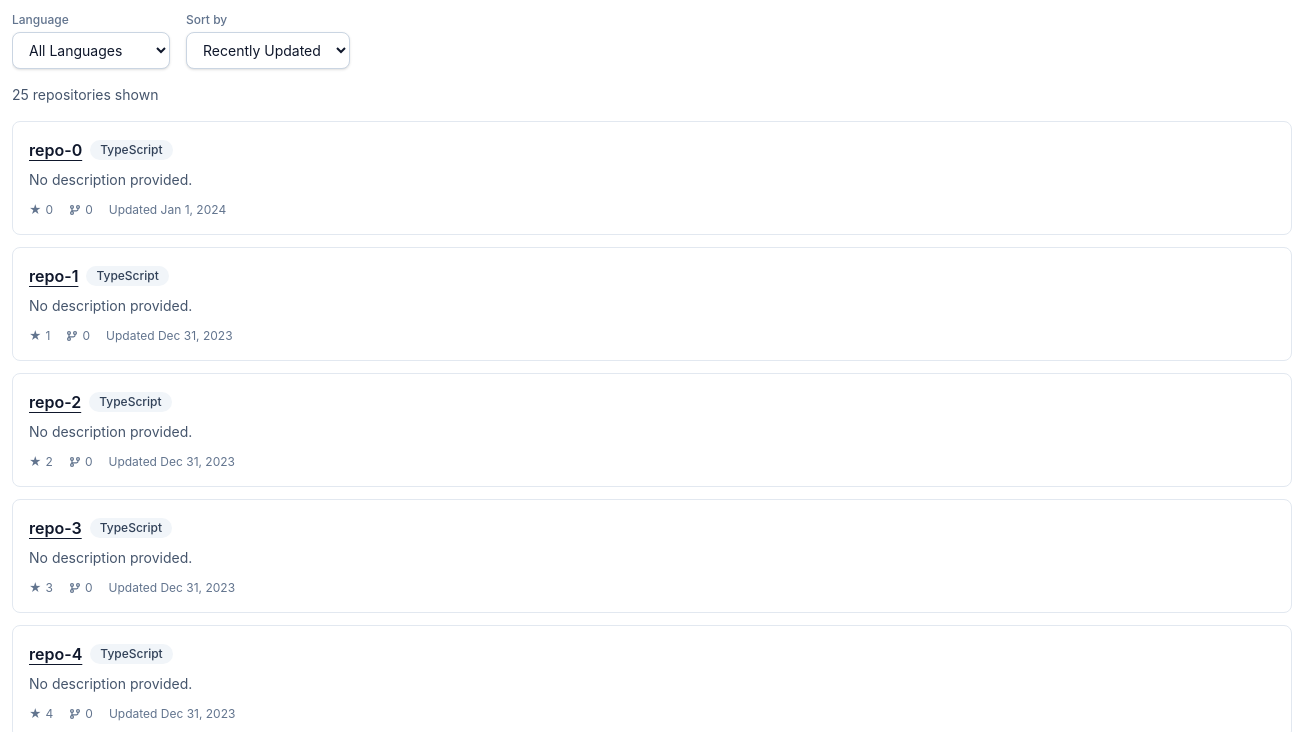
Test: RepositoryExplorer › sorting › shows the repository with the most stars first when that order is chosen
The image size is (1292, 732).
Select "Most Stars" in the dropdown labelled "Sort by" at point(268, 50), box [186,32,350,69]
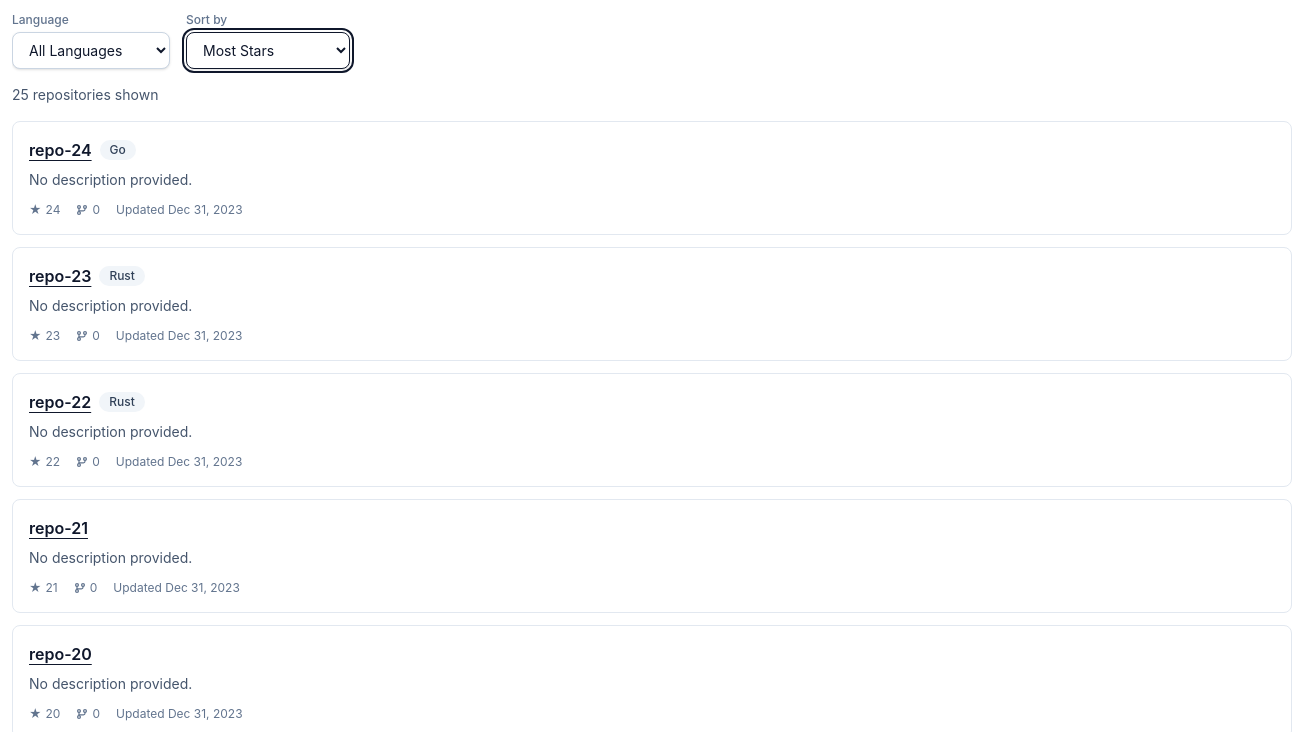
Result: the link "repo-24" is shown at [29,140,92,160]
